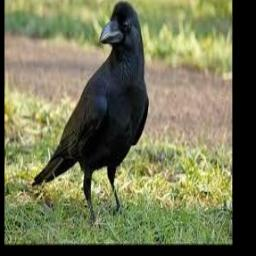Crow: (32, 0, 148, 223)
